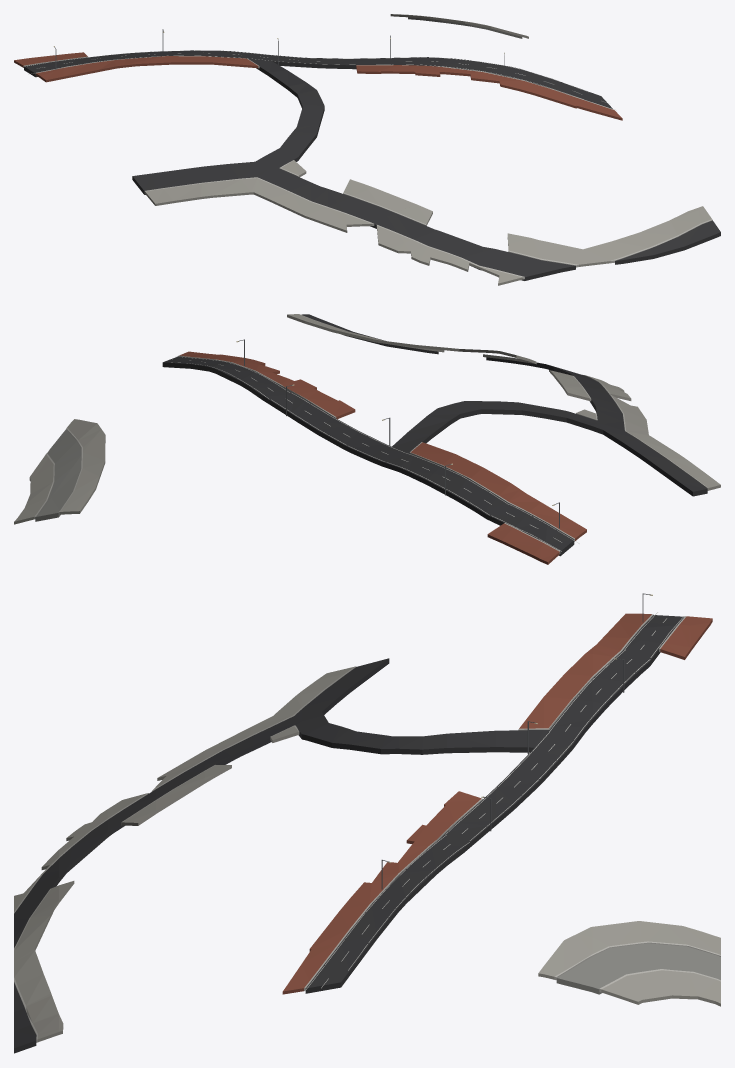
The picture shows the model from 3 angles, top to bottom: view 1: azimuth 30°, elevation 25°; view 2: azimuth 150°, elevation 25°; view 3: azimuth 270°, elevation 25°; orthographic projection. The views are drawn at different scales.
Bounding box in the file's own units: 150 × 40.9 × 146.
